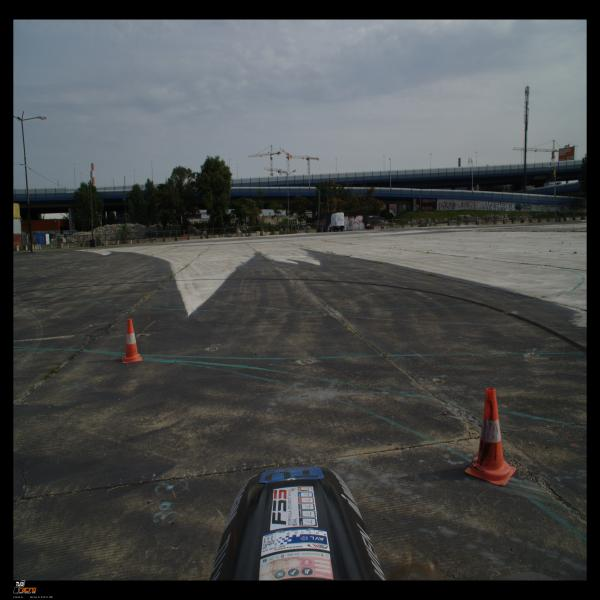orange_cone: (465, 388, 516, 486), (122, 318, 142, 364)
